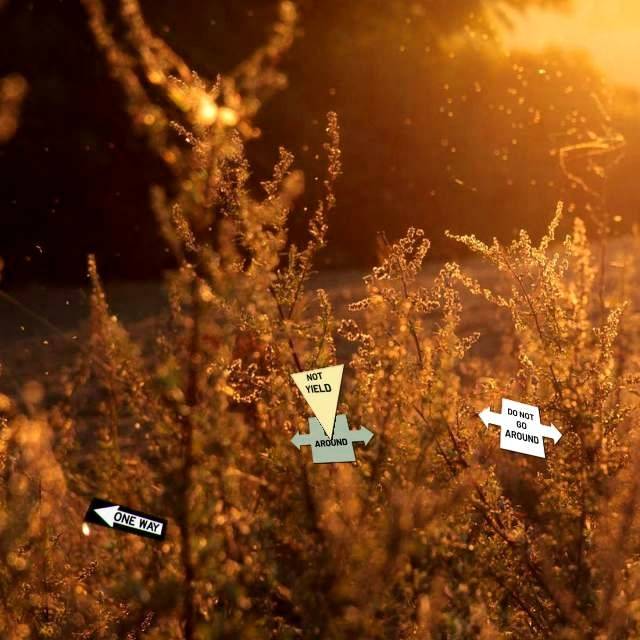DO_NOT_GO_AROUND: (477, 397, 563, 459)
GO_AROUND: (289, 413, 375, 464)
NOT_YIELD: (289, 363, 345, 442)
ONE_WAY_ left: (82, 496, 168, 542)
